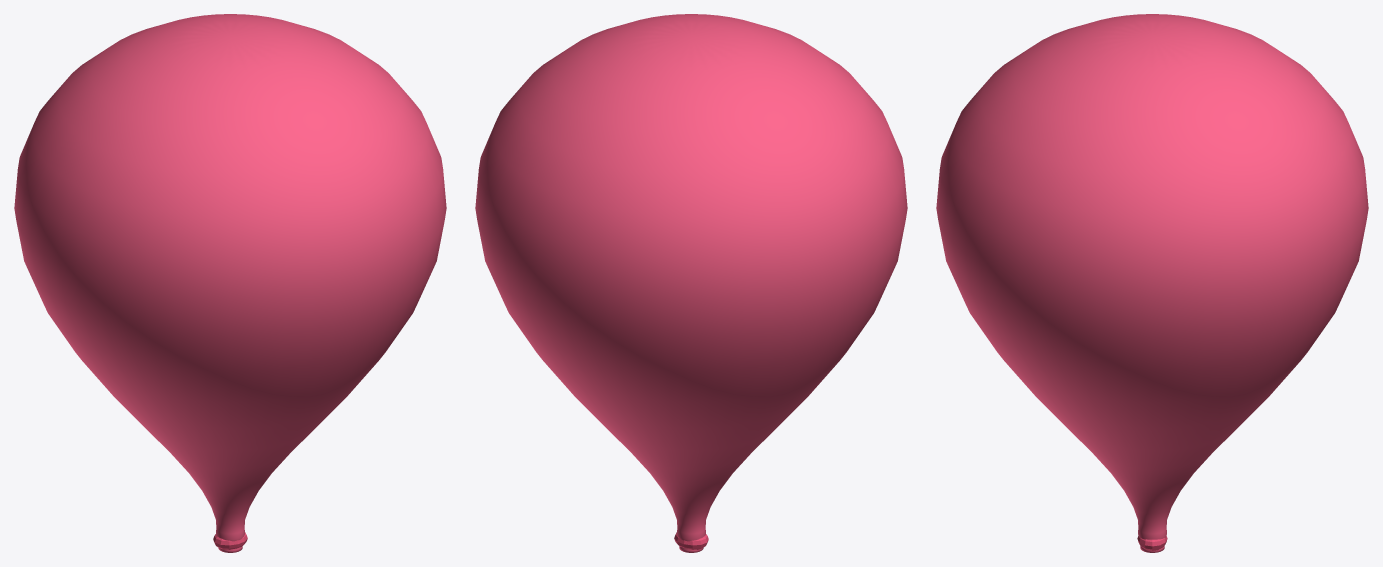
File: InflatableBalloon.fbx
The picture shows the model from 3 angles, left to right: view 1: azimuth 30°, elevation 25°; view 2: azimuth 150°, elevation 25°; view 3: azimuth 270°, elevation 25°; orthographic projection.
Parts seen in each view (by area): view 1: Balloon_Body; view 2: Balloon_Body; view 3: Balloon_Body.
Boxes of the visible parts, <box> form: Balloon_Body: <box>14,14,446,552</box>; Balloon_Body: <box>475,14,907,552</box>; Balloon_Body: <box>936,14,1368,552</box>.
Bounding box in the file's own units: 0.229 × 0.2994 × 0.229.
